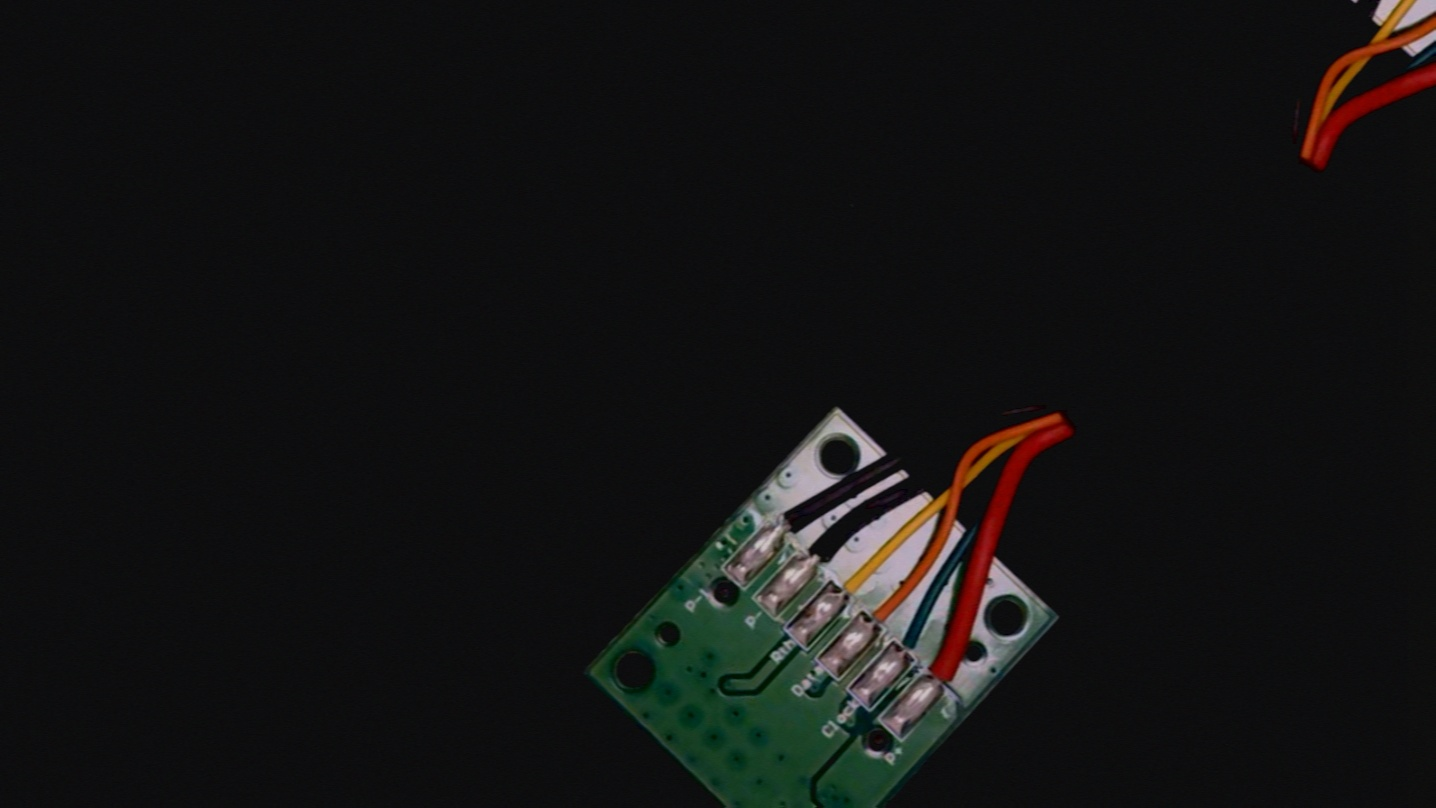Black: (789, 518, 854, 585)
Black1: (757, 487, 824, 555)
Green: (879, 611, 944, 677)
Orange: (849, 579, 915, 646)
Red: (912, 643, 975, 707)
Yellow: (819, 544, 889, 616)
